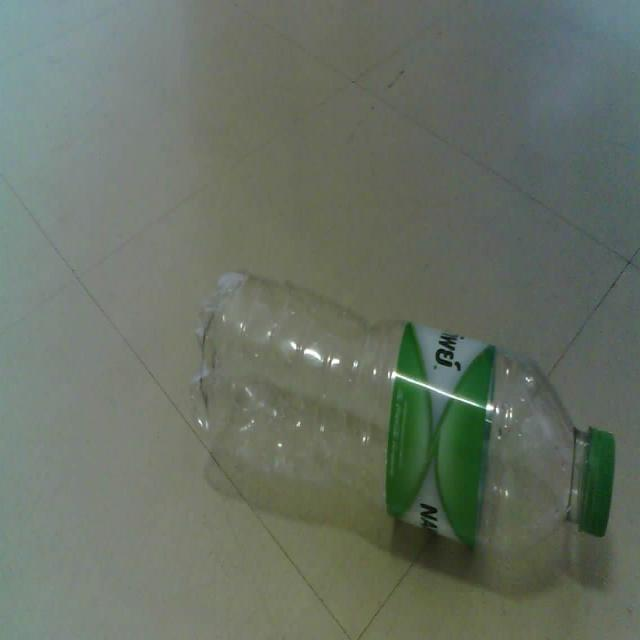empty: (194, 273, 615, 555)
